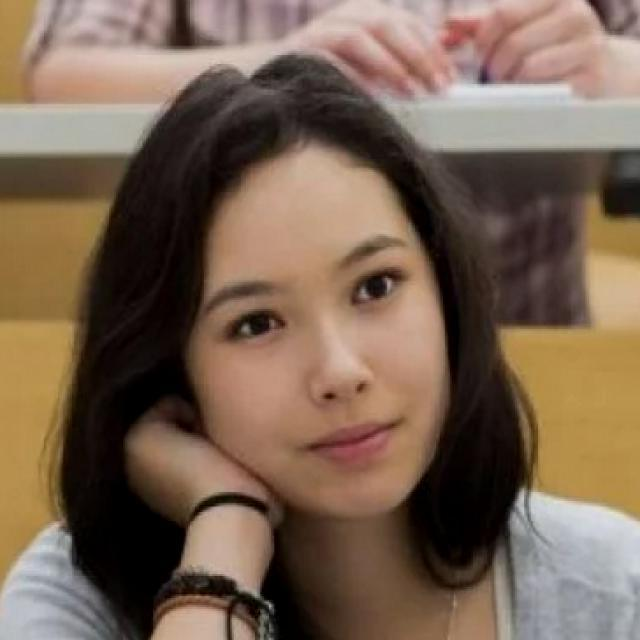Looking forward: (186, 146, 450, 521)
